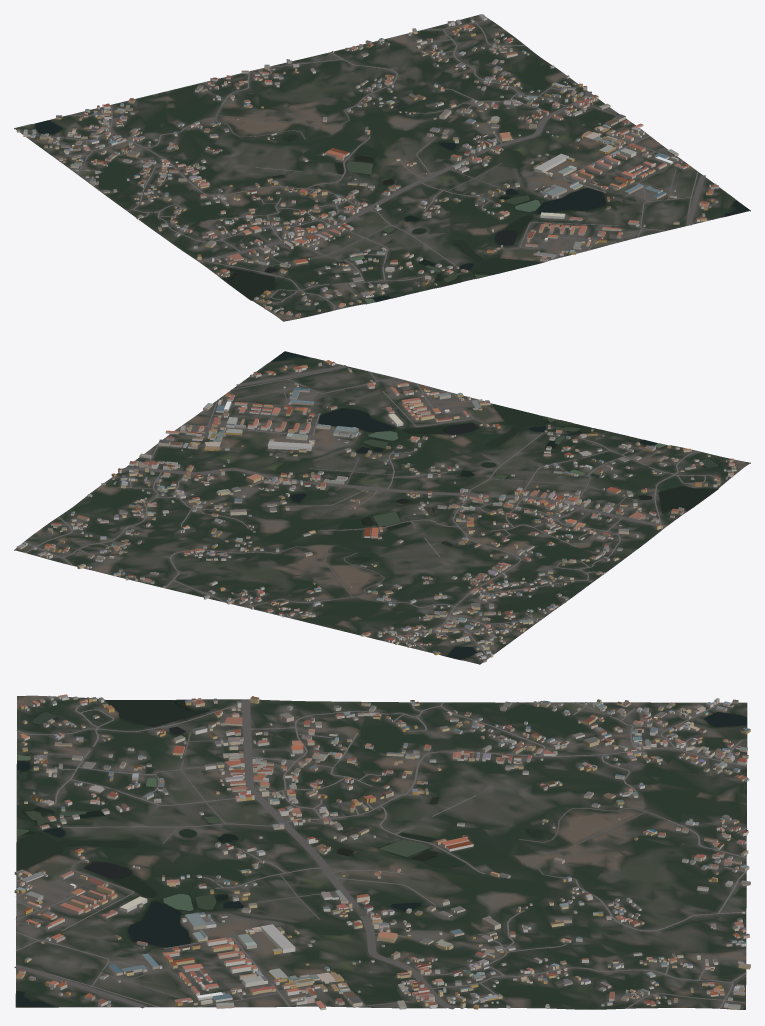
3 renders of one model, top to bottom at view 1: azimuth 30°, elevation 25°; view 2: azimuth 150°, elevation 25°; view 3: azimuth 270°, elevation 25°, orthographic. The views are drawn at different scales.
Visible parts, largest first — view 1: ground, buildings, roads, water; view 2: ground, buildings, roads, water; view 3: ground, buildings, roads, water.
Part boxes in pixels (x1=…): ground: x1=14, y1=14, x2=750, y2=321; buildings: x1=16, y1=14, x2=718, y2=317; roads: x1=36, y1=17, x2=705, y2=310; water: x1=35, y1=103, x2=749, y2=310; ground: x1=14, y1=351, x2=750, y2=664; buildings: x1=16, y1=360, x2=736, y2=662; roads: x1=23, y1=365, x2=714, y2=657; water: x1=233, y1=351, x2=718, y2=659; ground: x1=15, y1=695, x2=747, y2=1009; buildings: x1=14, y1=694, x2=750, y2=1010; roads: x1=14, y1=699, x2=747, y2=1009; water: x1=16, y1=699, x2=746, y2=1006.
Bounding box in the file's own units: 1418 × 23.84 × 1415.
